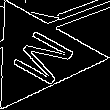M_SE: (0, 23, 76, 89)
